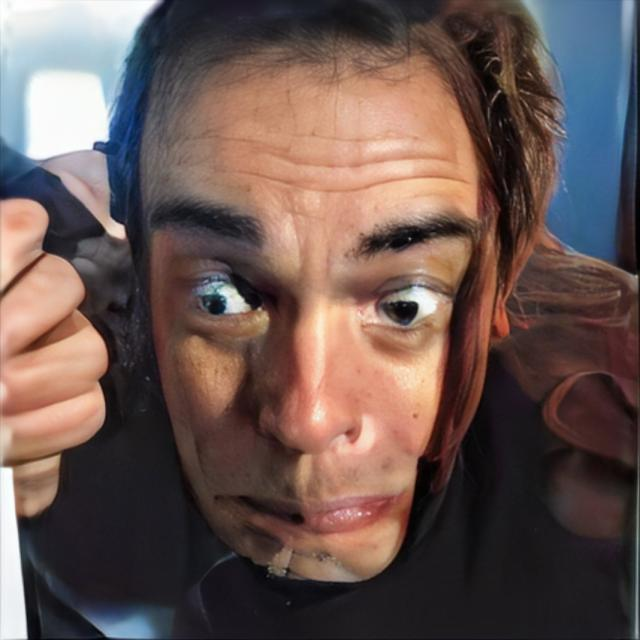fear: (134, 14, 503, 584)
